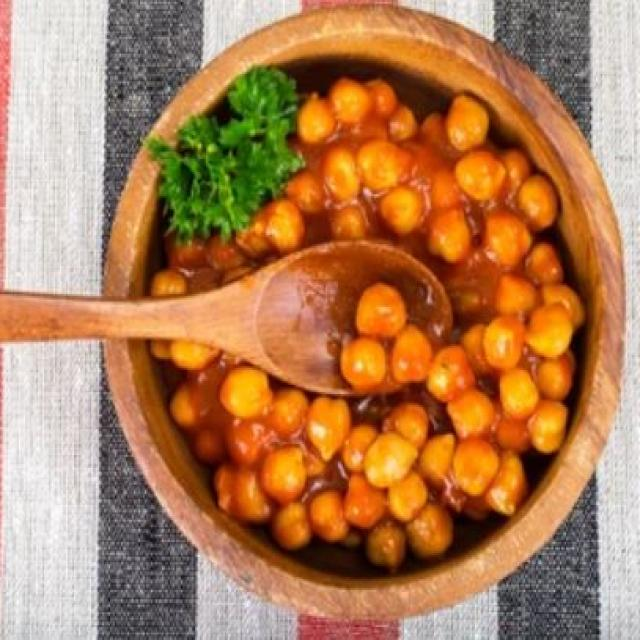Lablabi: (67, 12, 617, 630)
